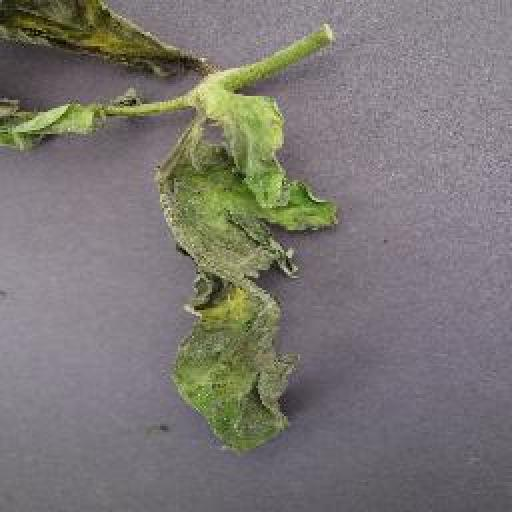disease_tomato: (159, 92, 336, 460), (0, 0, 206, 76)
